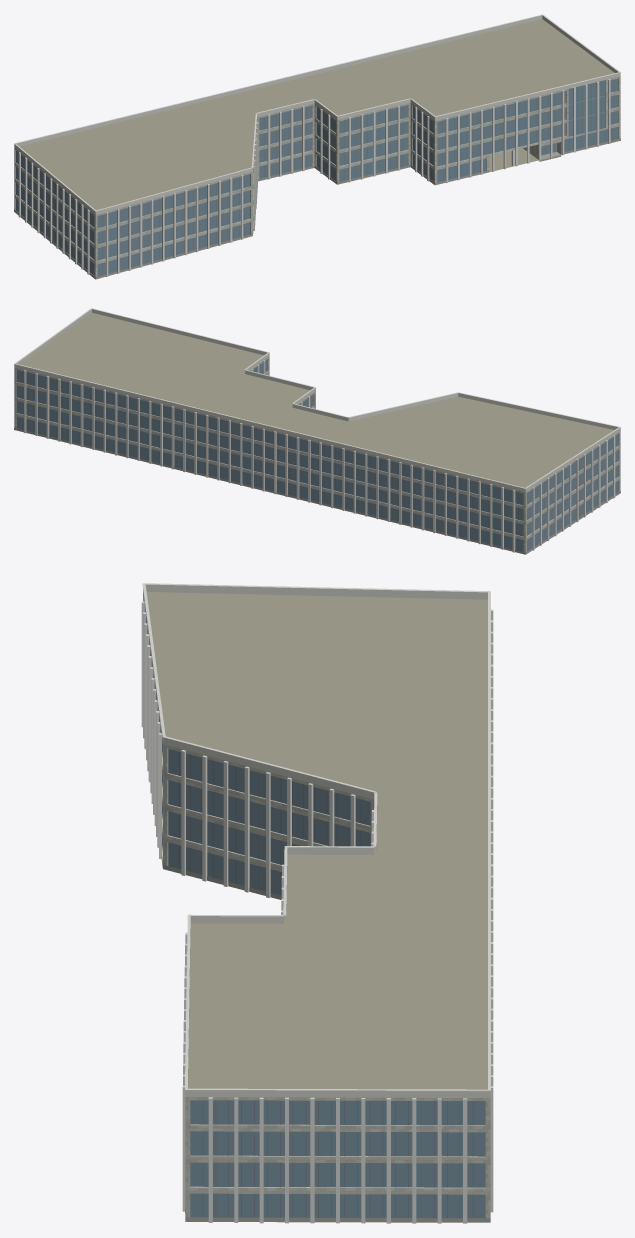
3 views of the same model, one above another, from view 1: azimuth 30°, elevation 25°; view 2: azimuth 150°, elevation 25°; view 3: azimuth 270°, elevation 25° (orthographic). The views are drawn at different scales.
Visible parts, largest first — view 1: industryCoop__roof, industryCoop__glass, industryCoop__trim, industryCoop__wall, industryCoop__parapet, industryCoop__frame, industryCoop__base; view 2: industryCoop__roof, industryCoop__glass, industryCoop__trim, industryCoop__wall, industryCoop__parapet, industryCoop__frame, industryCoop__base; view 3: industryCoop__roof, industryCoop__glass, industryCoop__trim, industryCoop__wall, industryCoop__parapet, industryCoop__frame, industryCoop__base.
Boxes of the visible parts, x1,y1,x2,y2 form: industryCoop__roof: [20, 19, 614, 210]; industryCoop__glass: [16, 78, 617, 276]; industryCoop__trim: [14, 14, 620, 276]; industryCoop__wall: [14, 76, 620, 278]; industryCoop__parapet: [14, 15, 620, 214]; industryCoop__frame: [28, 81, 612, 274]; industryCoop__base: [14, 138, 620, 279]; industryCoop__roof: [20, 313, 614, 487]; industryCoop__glass: [16, 359, 618, 551]; industryCoop__trim: [14, 308, 620, 552]; industryCoop__wall: [14, 356, 620, 552]; industryCoop__parapet: [14, 309, 620, 492]; industryCoop__frame: [22, 368, 611, 550]; industryCoop__base: [14, 428, 620, 554]; industryCoop__roof: [146, 592, 487, 1222]; industryCoop__glass: [145, 610, 485, 1218]; industryCoop__trim: [141, 583, 493, 1223]; industryCoop__wall: [143, 592, 490, 1218]; industryCoop__parapet: [143, 584, 490, 1097]; industryCoop__frame: [150, 651, 473, 1218]; industryCoop__base: [161, 856, 490, 1222].
Bounding box in the file's own units: 147 × 18.2 × 43.
Materials: 9 (1 with a texture image).
